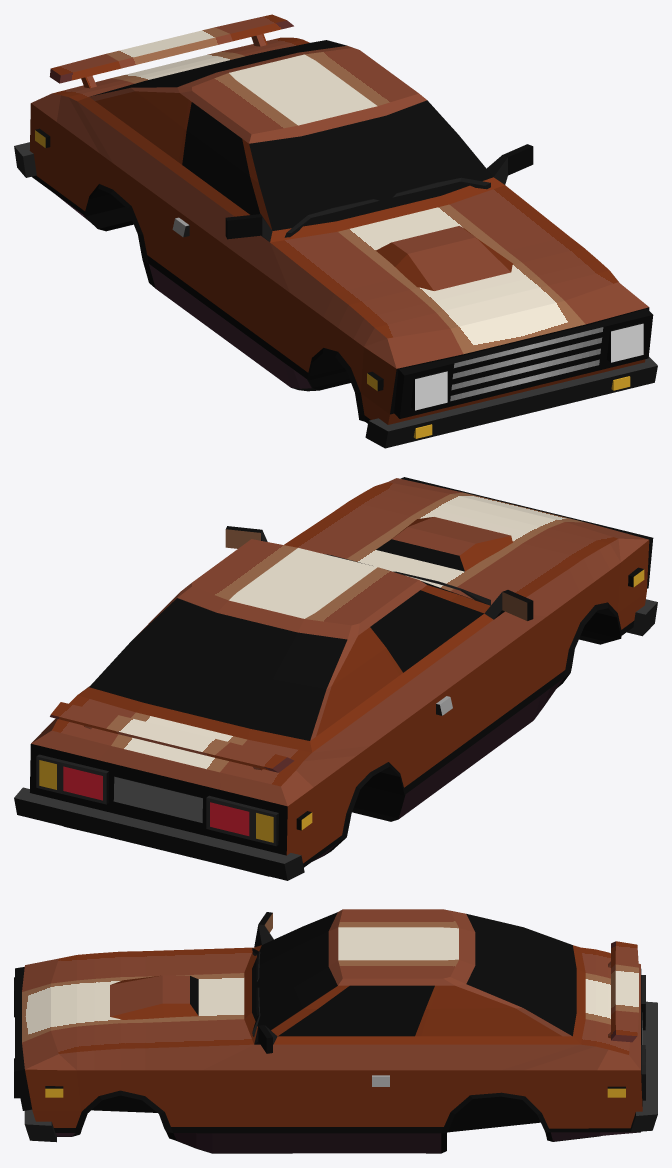
The model's file is SportCar.003.fbx.
The picture shows the model from 3 angles, top to bottom: view 1: azimuth 30°, elevation 25°; view 2: azimuth 150°, elevation 25°; view 3: azimuth 270°, elevation 25°; orthographic projection. The views are drawn at different scales.
Visible parts, largest first — view 1: SportCar.003; view 2: SportCar.003; view 3: SportCar.003.
Boxes of the visible parts, x1,y1,x2,y2 form: SportCar.003: (14, 14, 657, 448); SportCar.003: (14, 477, 657, 880); SportCar.003: (14, 909, 657, 1153).
Bounding box in the file's own units: 1.75 × 1.05 × 3.77.
